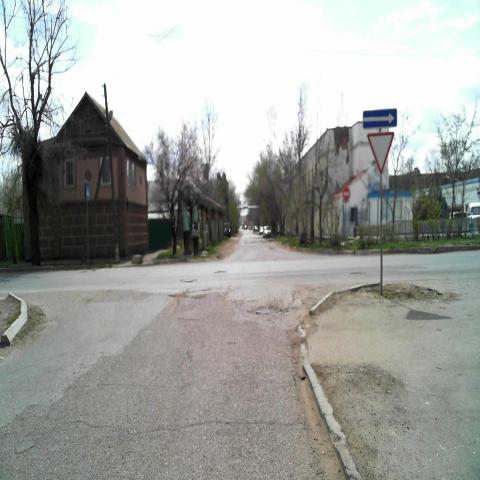5_7_1: (362, 106, 398, 128)
